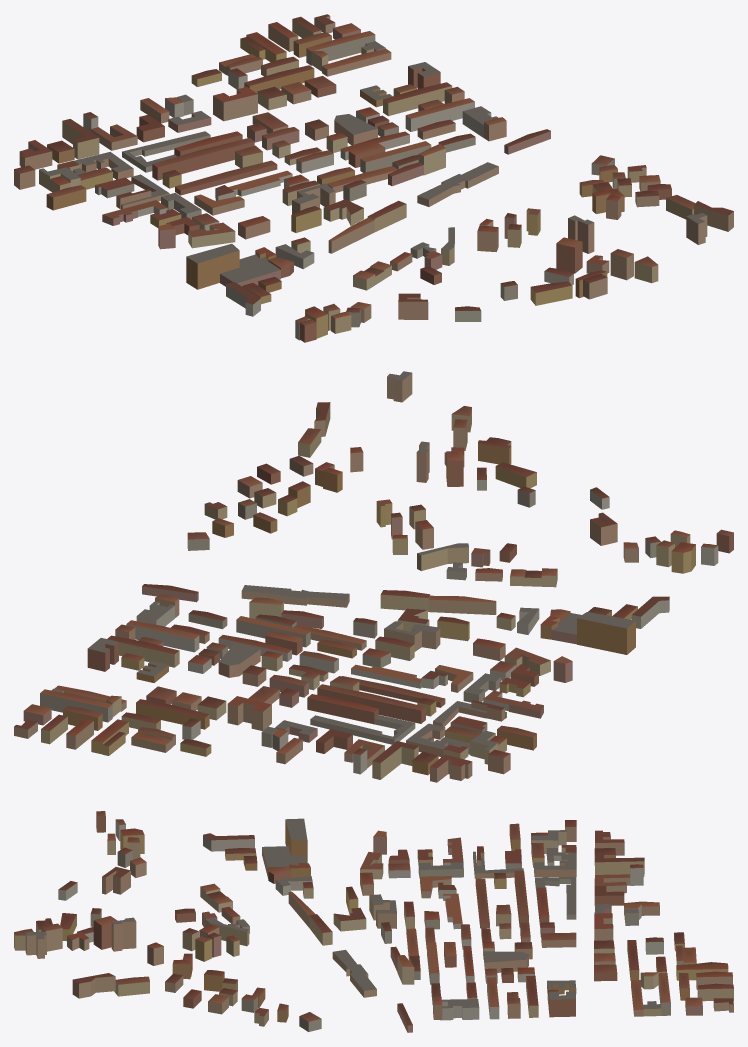
The model's file is SM_Fondale_Citta_Colle_05_LOD1.fbx.
3 renders of one model, top to bottom at view 1: azimuth 30°, elevation 25°; view 2: azimuth 150°, elevation 25°; view 3: azimuth 270°, elevation 25°, orthographic. The views are drawn at different scales.
Visible parts, largest first — view 1: SM_Fondale_Citta_Colle_05_LOD1; view 2: SM_Fondale_Citta_Colle_05_LOD1; view 3: SM_Fondale_Citta_Colle_05_LOD1.
Boxes of the visible parts, <box> form: SM_Fondale_Citta_Colle_05_LOD1: <box>14,14,733,342</box>; SM_Fondale_Citta_Colle_05_LOD1: <box>14,371,733,782</box>; SM_Fondale_Citta_Colle_05_LOD1: <box>14,811,733,1032</box>.
Size of the model in its own units: 55696 by 80739 by 9668.
